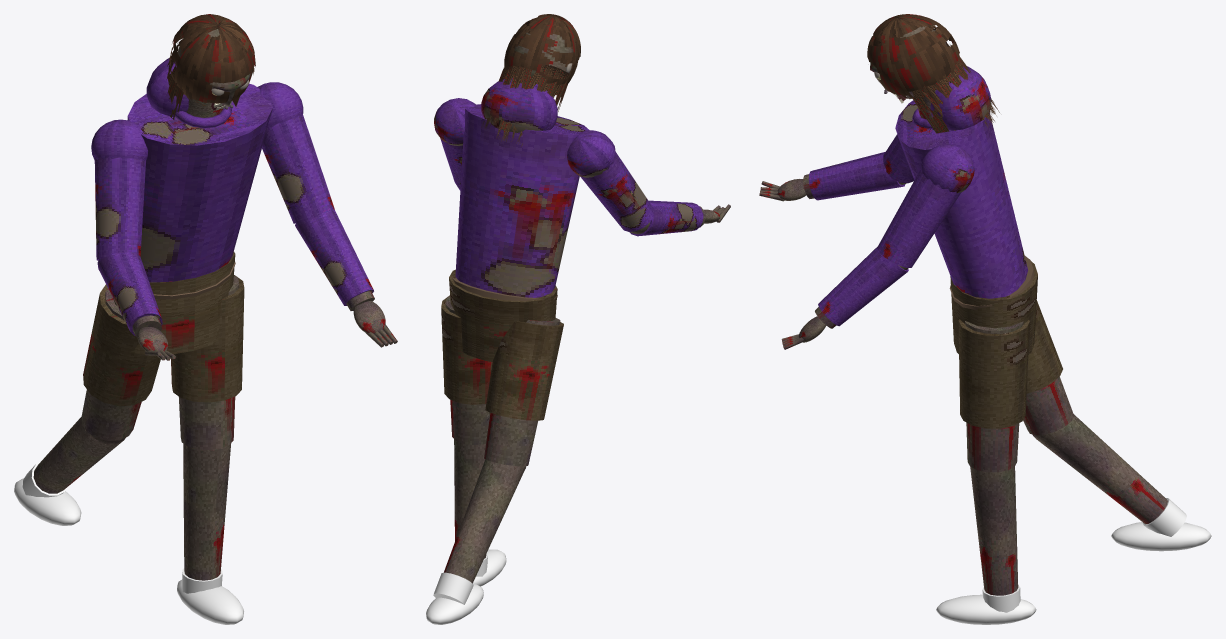
File: Zombie_081.glb
The picture shows the model from 3 angles, left to right: view 1: azimuth 30°, elevation 25°; view 2: azimuth 150°, elevation 25°; view 3: azimuth 270°, elevation 25°; orthographic projection. The views are drawn at different scales.
Parts seen in each view (by area): view 1: Zombie_081, object 44, object 12, object 4, object 45, object 13, object 5; view 2: Zombie_081, object 45, object 4, object 44, object 18, object 51; view 3: Zombie_081, object 45, object 12, object 4, object 44, object 46.
Part boxes in pixels (x1,y1,x2,y2): Zombie_081: (14,58,334,624); object 44: (173,15,255,88); object 12: (295,210,373,305); object 4: (97,252,162,335); object 45: (169,14,253,106); object 13: (353,301,385,333); object 5: (137,327,167,351); Zombie_081: (426,78,654,624); object 45: (504,17,578,85); object 4: (629,200,703,236); object 44: (514,14,580,64); object 18: (514,32,573,76); object 51: (496,66,531,141); Zombie_081: (877,66,1211,624); object 45: (872,15,959,99); object 12: (818,247,908,326); object 4: (808,152,905,200); object 44: (867,14,942,72); object 46: (911,84,955,133).
Size of the model in its own units: 0.7958 by 1.9 by 1.33.
16 materials, 6 textured.
